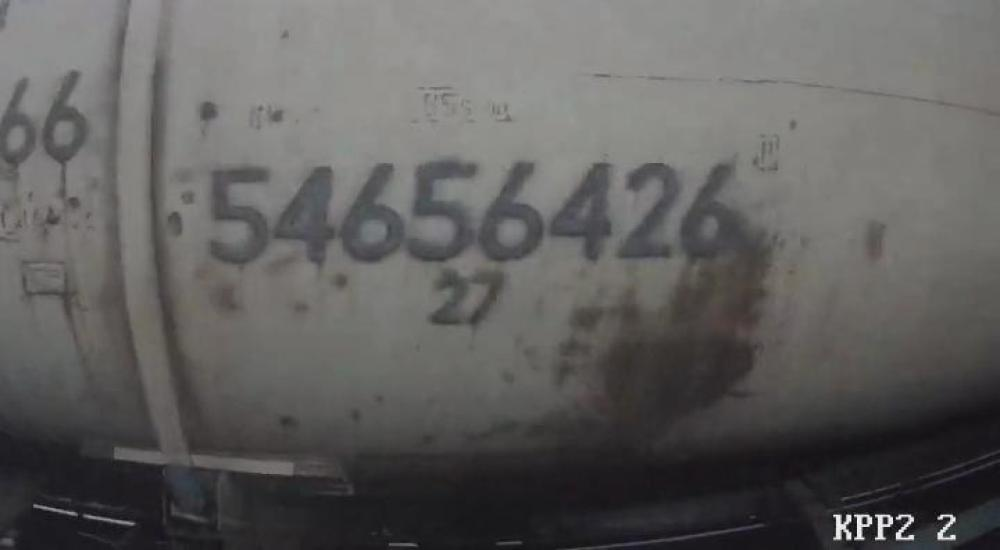Wagon-number: (197, 154, 746, 268)
